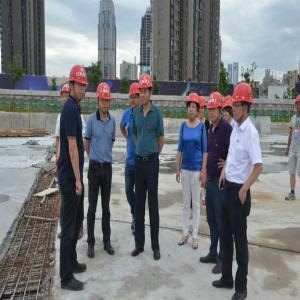red: (233, 83, 254, 122), (70, 65, 88, 102), (97, 83, 112, 114), (208, 92, 223, 123), (139, 73, 153, 105), (186, 94, 201, 120), (129, 84, 141, 112), (224, 97, 233, 123), (61, 85, 71, 105), (199, 97, 207, 120), (297, 94, 300, 117)
